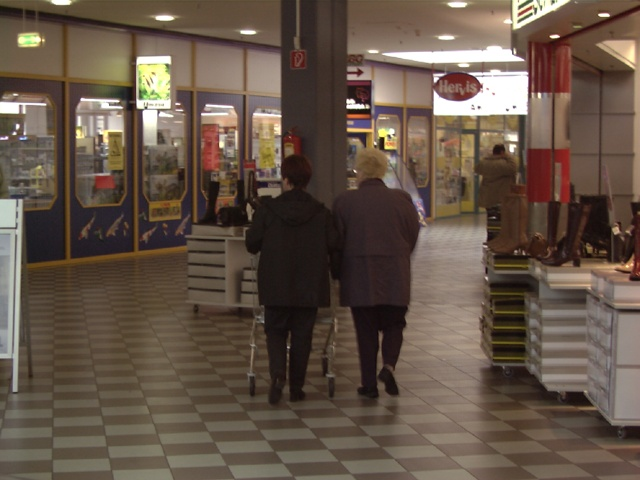person: (331, 142, 408, 394), (256, 155, 333, 398), (473, 139, 524, 259)
